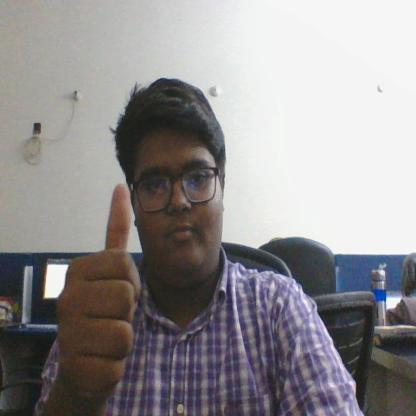thumbs-up: (55, 181, 148, 388)
